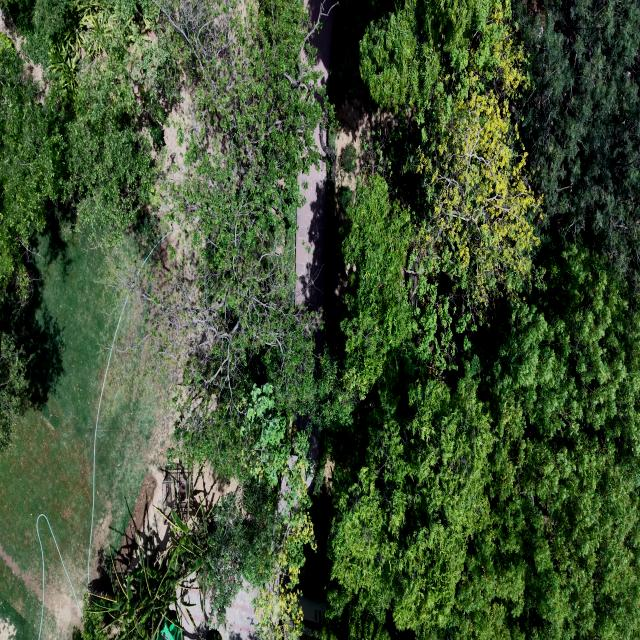DRY_AREA: (0, 234, 136, 639), (0, 229, 130, 639), (323, 4, 396, 350), (295, 123, 328, 352), (296, 123, 327, 311), (296, 159, 327, 310), (178, 587, 255, 639), (219, 588, 255, 639), (0, 617, 16, 639)
VEGETATION_TREE: (0, 0, 639, 639), (318, 1, 639, 639), (0, 0, 322, 636), (0, 1, 322, 478), (151, 1, 322, 483), (0, 0, 179, 449), (448, 244, 639, 637), (360, 2, 540, 316), (0, 0, 180, 291), (82, 437, 315, 639), (328, 347, 491, 627), (518, 2, 639, 287), (82, 512, 204, 639), (341, 176, 409, 397), (0, 45, 59, 295), (196, 480, 277, 625), (0, 326, 27, 452), (341, 143, 356, 171), (340, 186, 354, 207)
